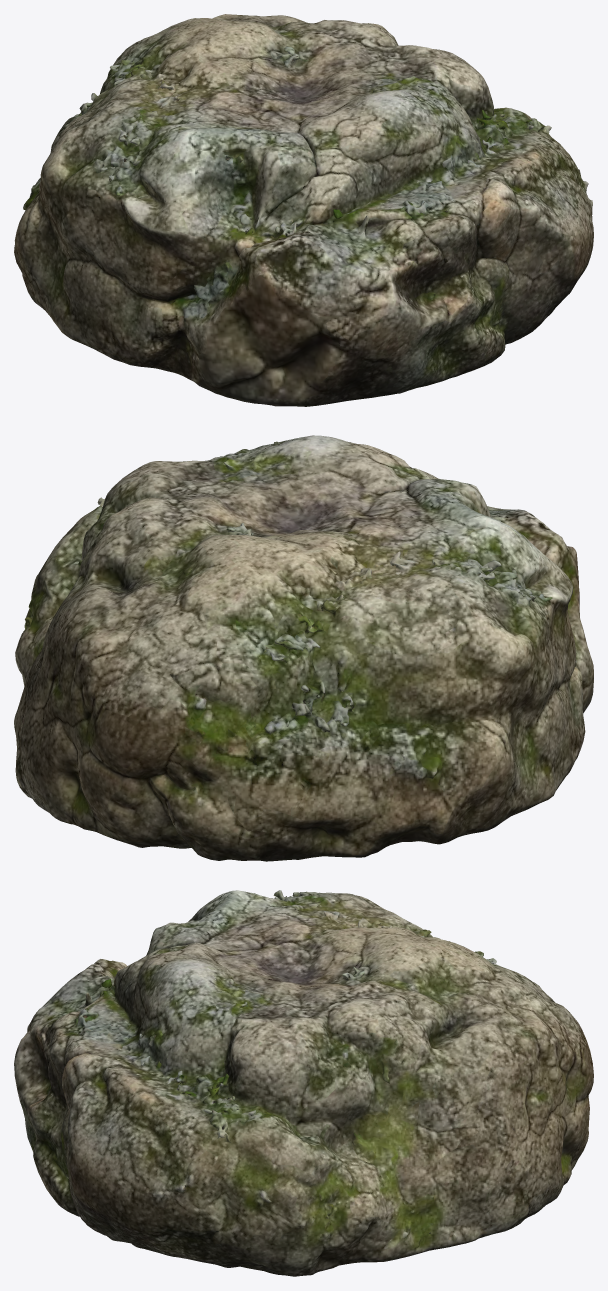
The model's file is boulder_a.0.glb.
3 renders of one model, top to bottom at view 1: azimuth 30°, elevation 25°; view 2: azimuth 150°, elevation 25°; view 3: azimuth 270°, elevation 25°, orthographic. The views are drawn at different scales.
Parts seen in each view (by area): view 1: geometry_0; view 2: geometry_0; view 3: geometry_0.
Boxes of the visible parts, x1,y1,x2,y2 form: geometry_0: [14, 14, 593, 406]; geometry_0: [14, 435, 593, 861]; geometry_0: [14, 890, 593, 1276].
Bounding box in the file's own units: 0.9254 × 0.4285 × 1.
Materials: 1 (1 with a texture image).
